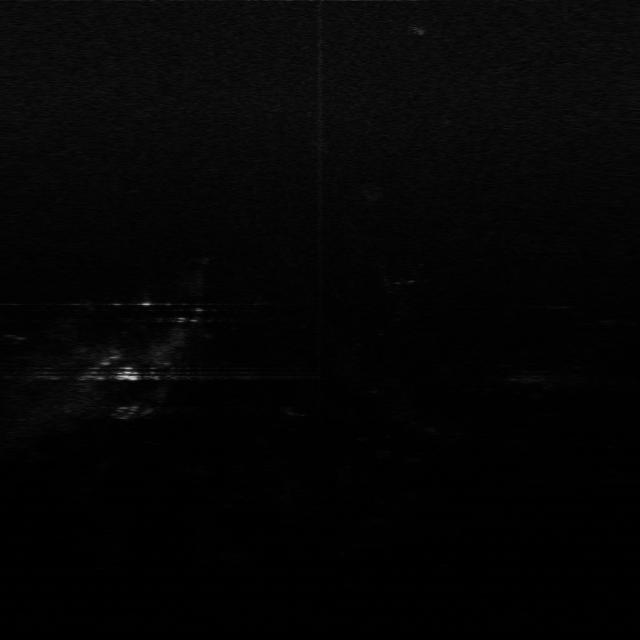rov: (117, 367, 143, 382)
